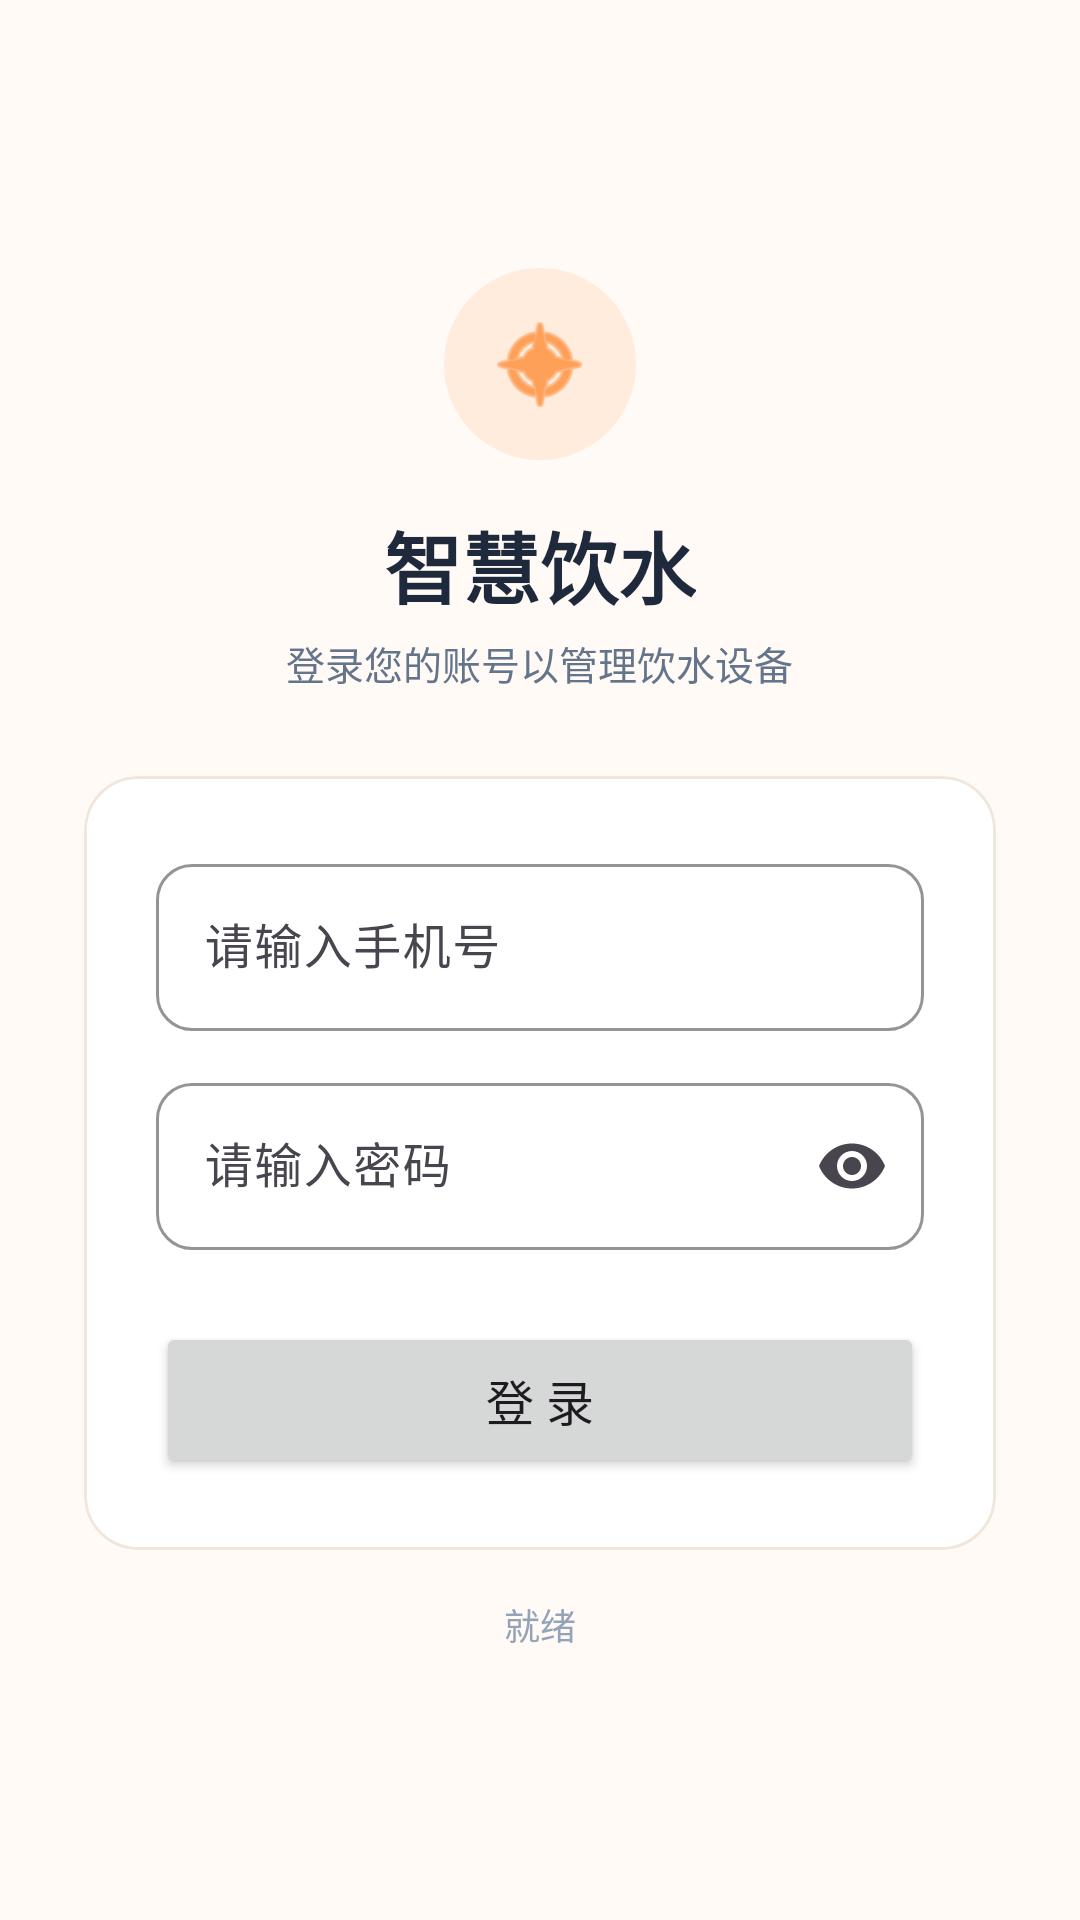

Icons on this 1080x1920 Android screen, each with the point to tap as point (x, y):
compass: point (540, 364)
